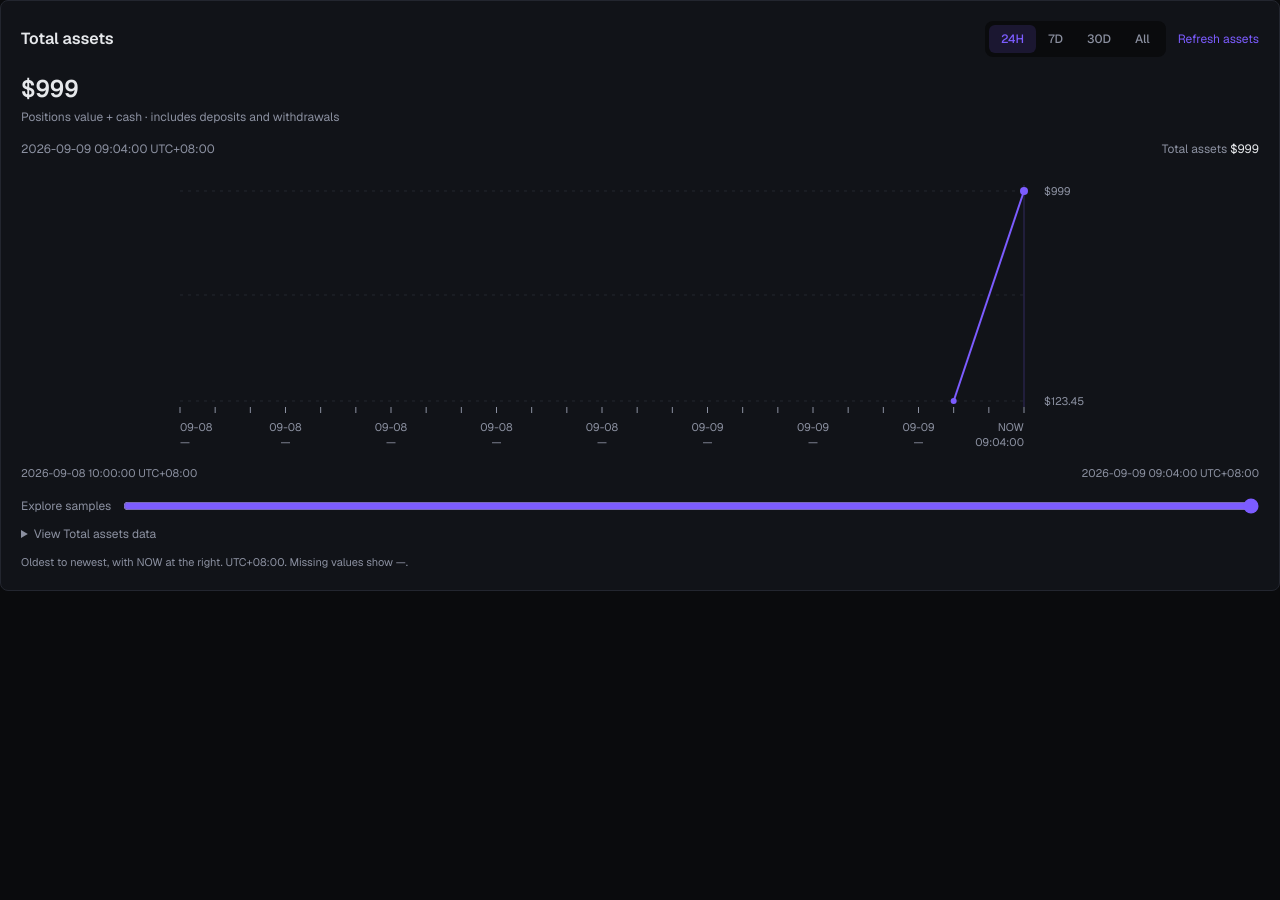
Test: Portfolio PnL chart › draws asset history independently of PnL and switches asset windows
The image size is (1280, 900).
Expected: the text with test id "balance-total" reads "$999", [21, 73, 79, 104]
Set the slider named "Total assets sample" to "22" at (1158, 506), box [123, 498, 1259, 514]
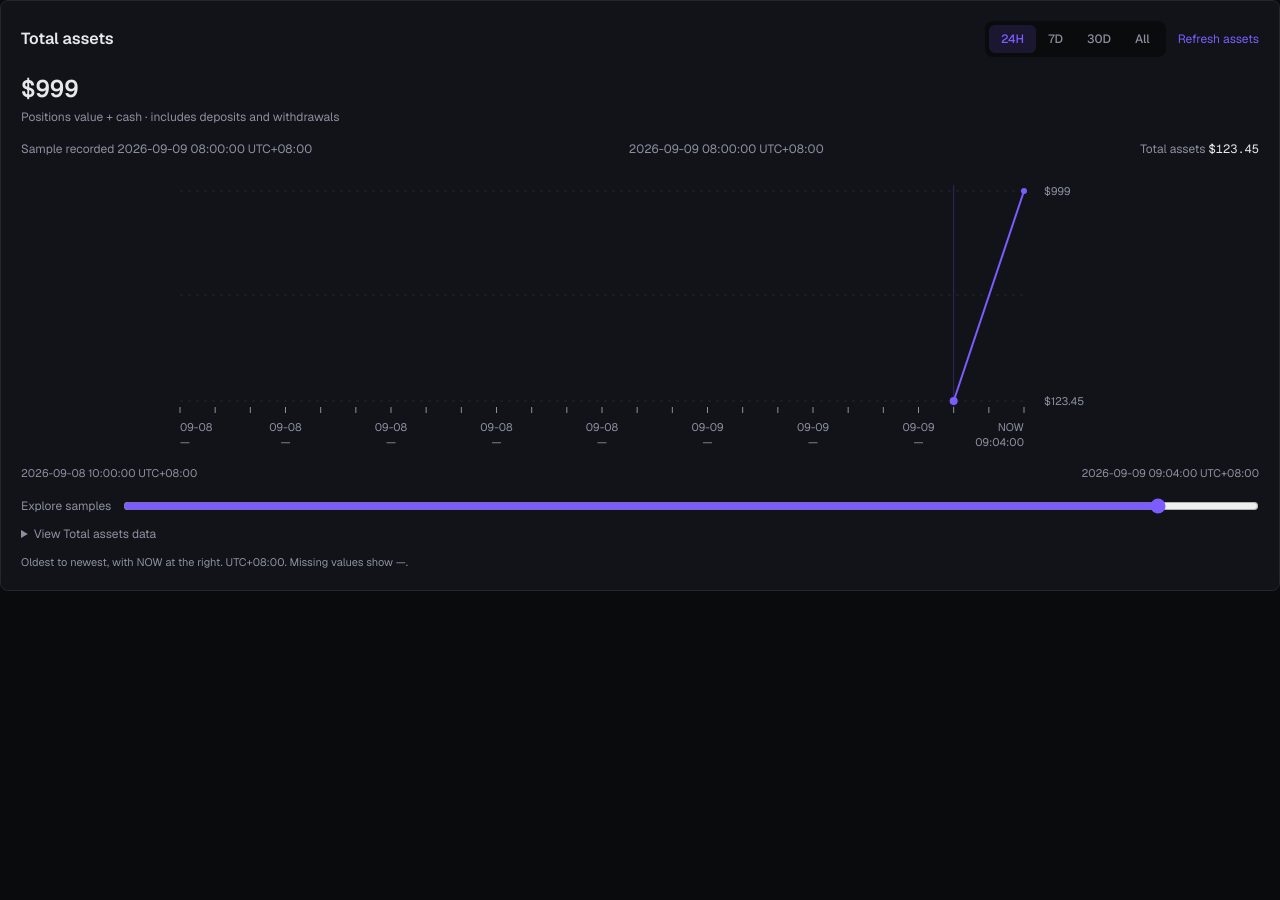
Result: the text with test id "balance-sample" reads "$123.45" at [1209, 141, 1259, 157]
Click the button "7D" at (1056, 39), box [1036, 25, 1075, 53]
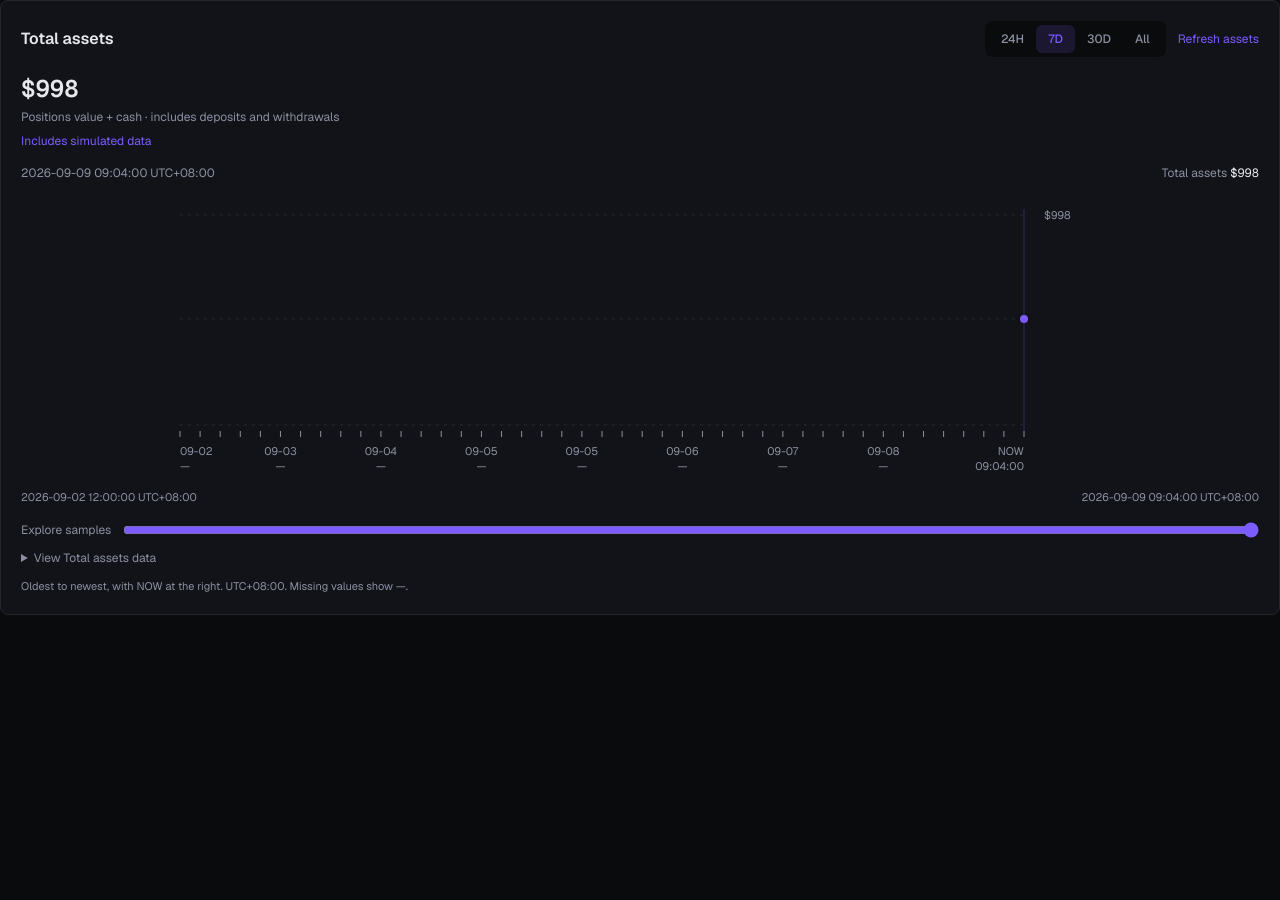
Result: the text with test id "balance-sample" reads "$998" at [1230, 165, 1259, 181]
Result: the text "Includes simulated data" is shown at [21, 133, 152, 149]
Click the button "30D" at (1099, 39), box [1075, 25, 1123, 53]
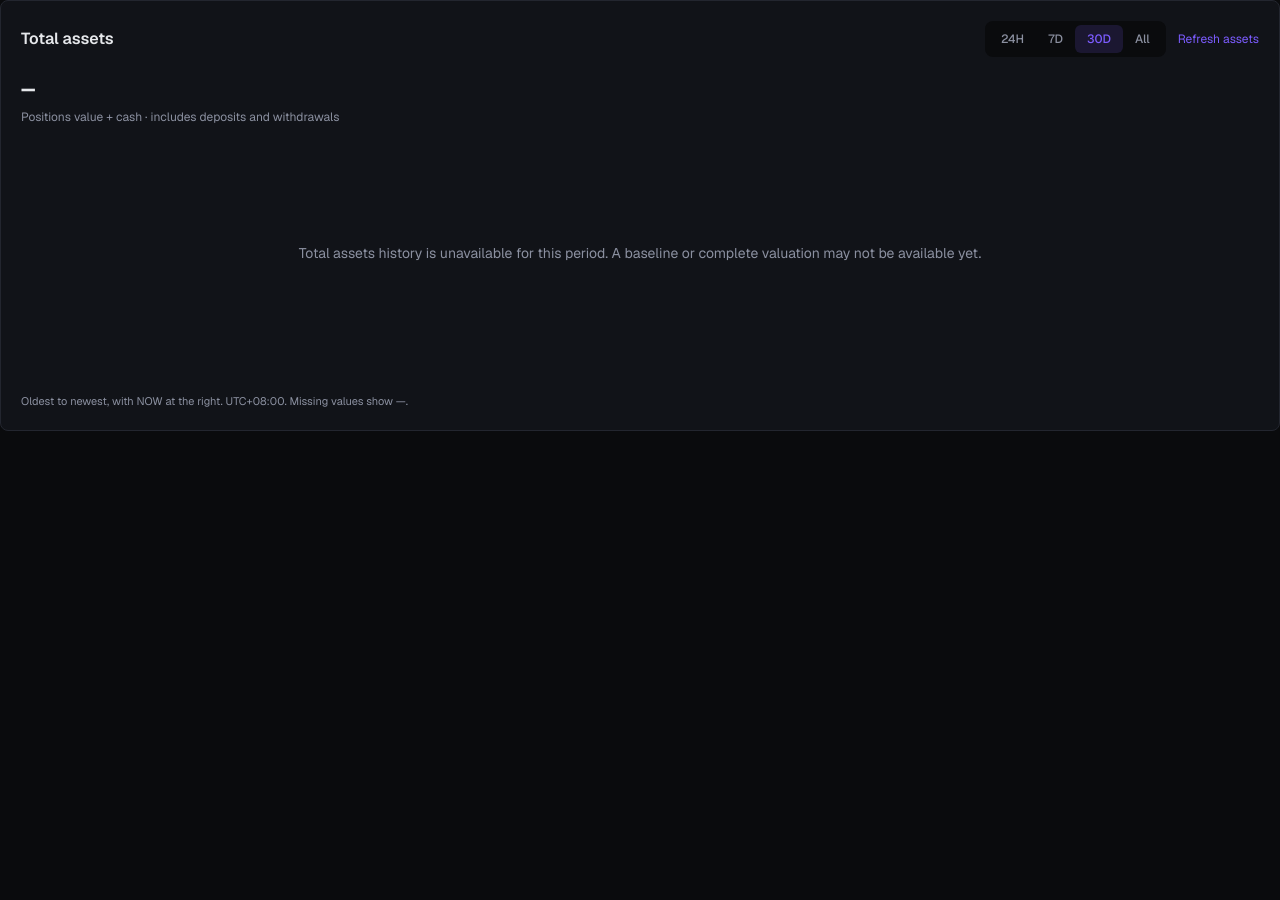
Result: the text with test id "balance-total" reads "—" at [21, 73, 35, 104]
Result: the picture is gone
Result: the text "Total assets history is unavailable" is shown at [299, 244, 981, 262]
